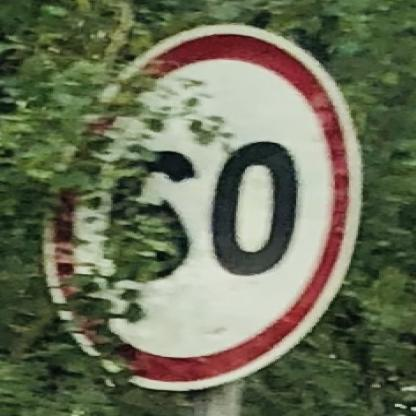Speed Limit -60 kmph-: (45, 21, 361, 395)
